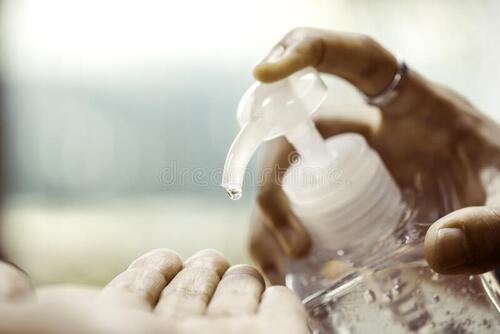sanitizer: (219, 64, 492, 329)
